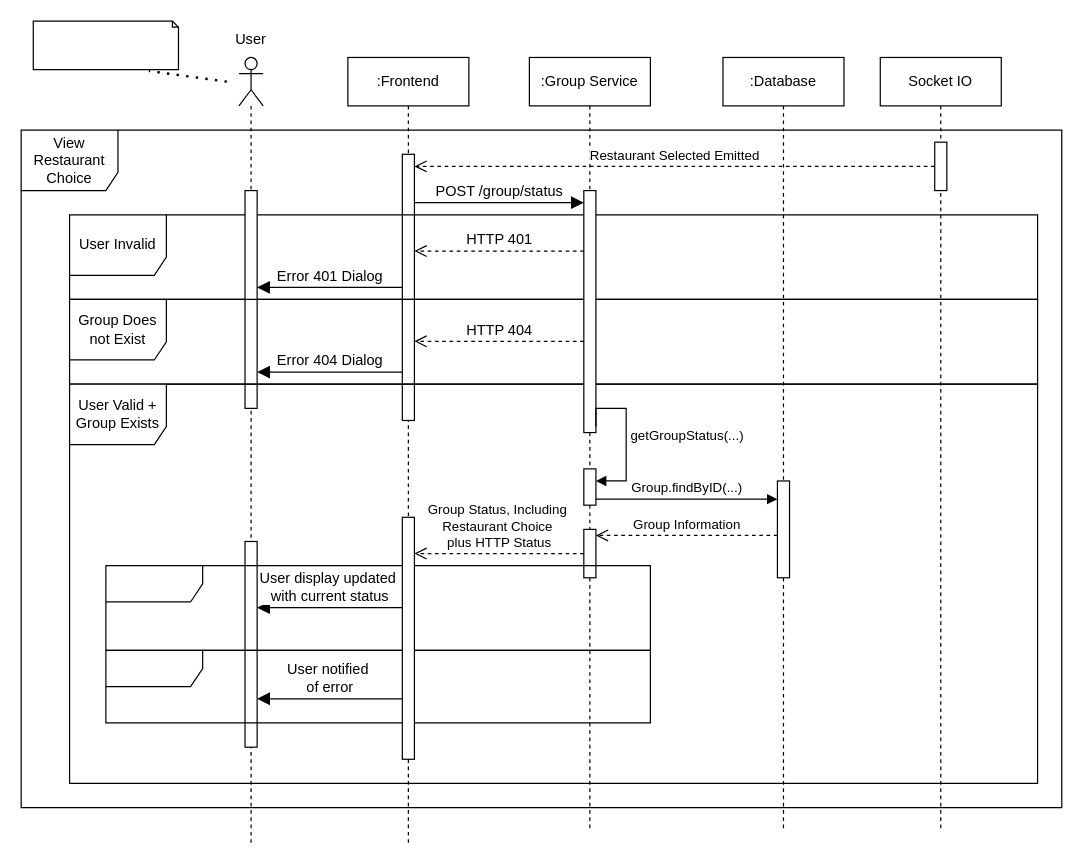
This 1083x865 diagram has some shape labels left out. The centre of each missing label's shape, as x and y in pixels:
"Status != 200" goes at (377,686).
"Status = 200" goes at (377,607).
"User in Group + Authenticated" goes at (105,45).
